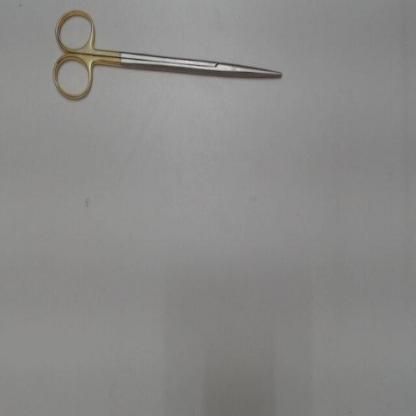7 Metzenbaum Scissors: (47, 7, 285, 107)
